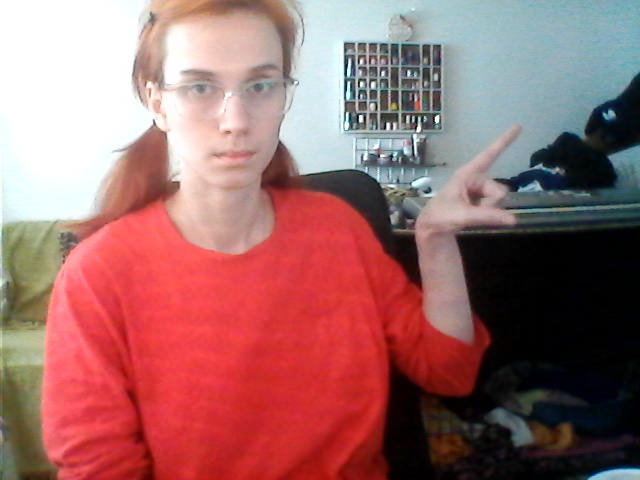on: (401, 119, 539, 398)
